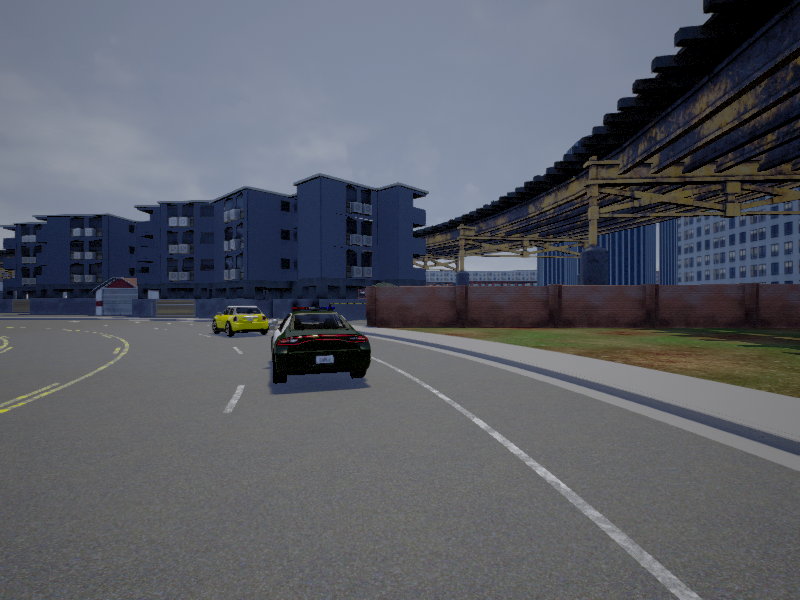Benign: (274, 305, 371, 385), (210, 303, 267, 335)
